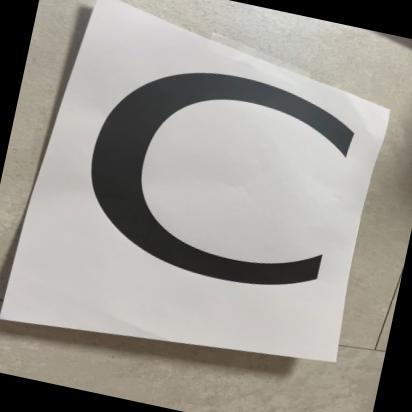seat: (41, 48, 388, 362)
